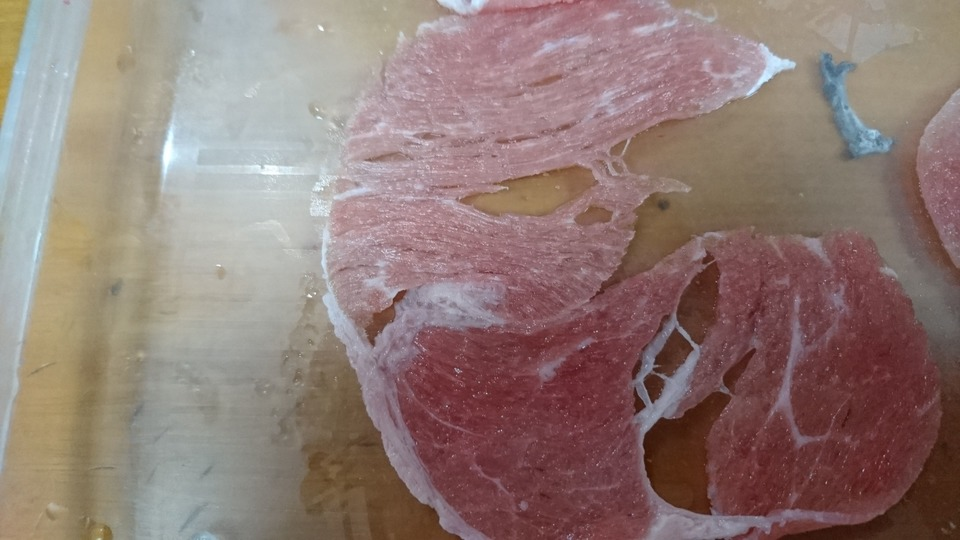restructured meat: (305, 10, 943, 530)
